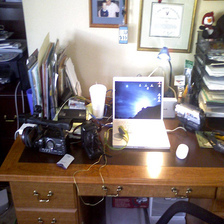laptop: (101, 72, 178, 154)
